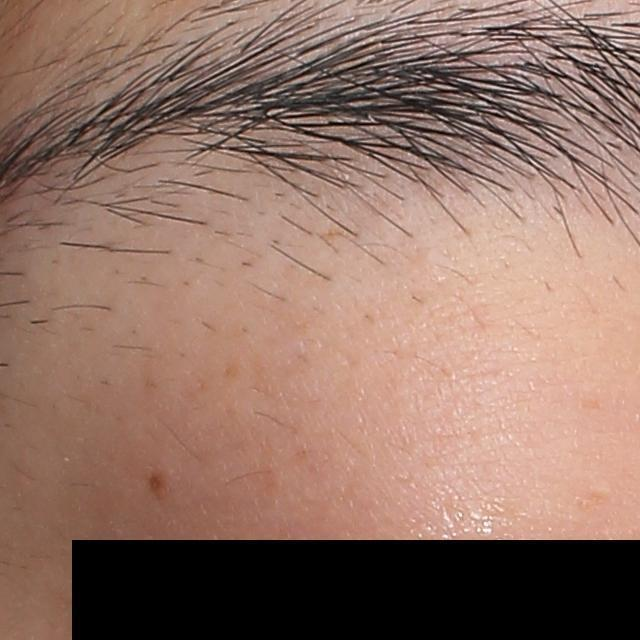nevus: (149, 472, 168, 494)
